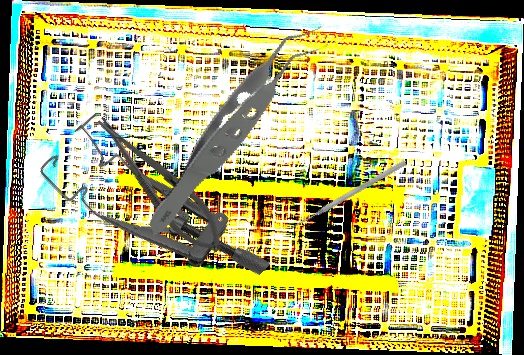Needle Holder: (84, 103, 236, 265)
Pusher: (289, 158, 408, 232)
Speculum: (35, 97, 273, 335)
Tissue Forceps: (104, 24, 371, 237)
